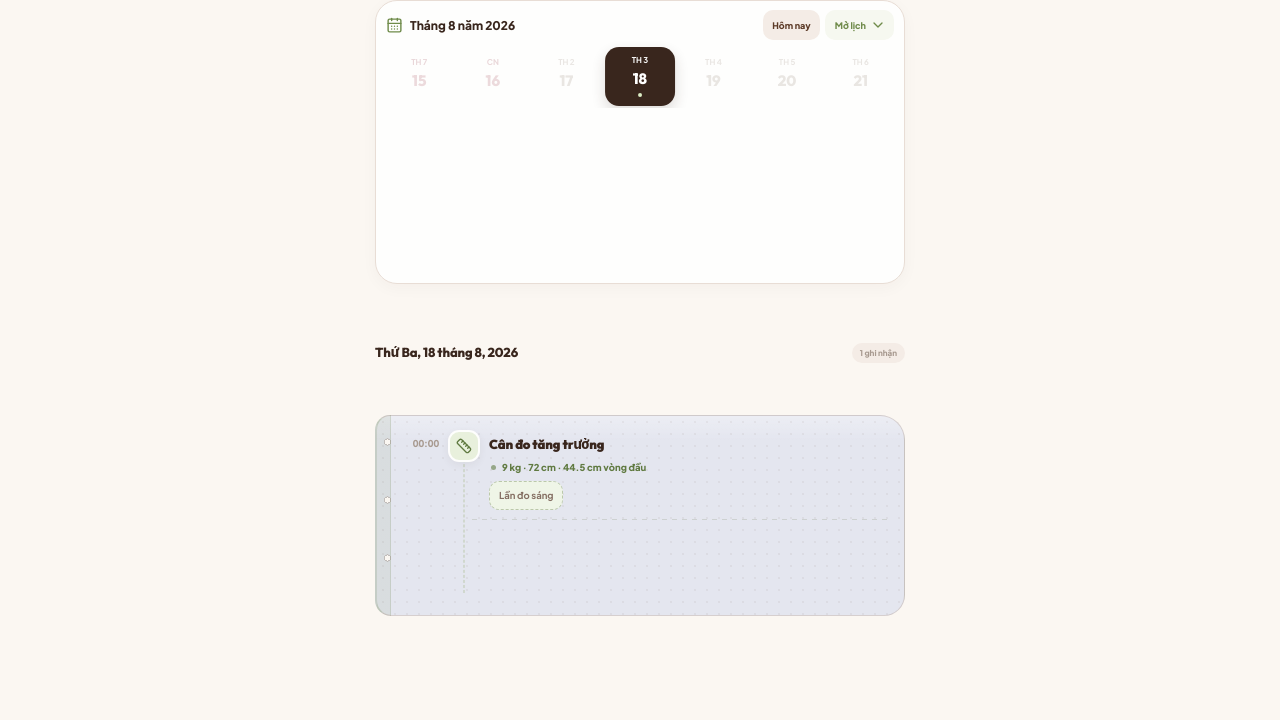
Test: TimelineView › edits a growth timeline item and keeps growth data in sync
The width and height of the screenshot is (1280, 720).
Click the button "Cân đo tăng trưởng": click(547, 444) x1=489 y1=437 x2=891 y2=510
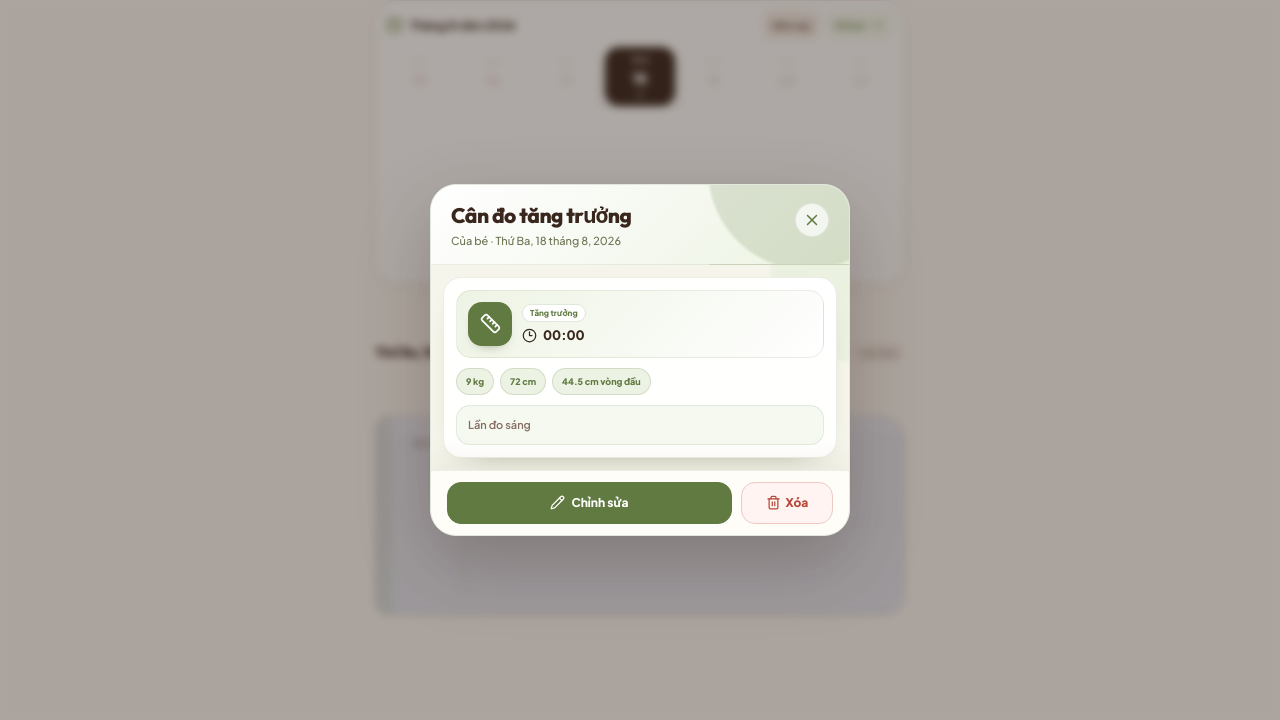
Click the button "Chỉnh sửa": click(590, 503) x1=447 y1=482 x2=732 y2=524
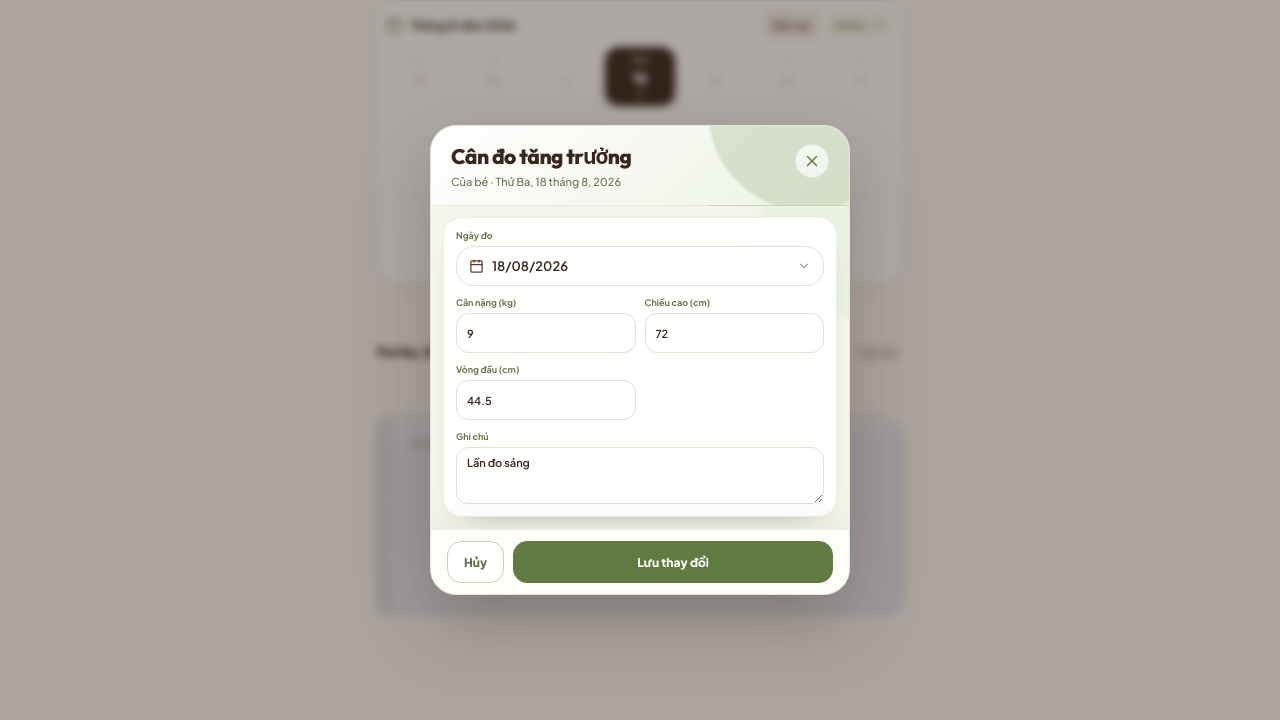
Replace the text in the number field labelled "Cân nặng (kg)" with "9.4": (546, 333) x1=456 y1=313 x2=636 y2=353
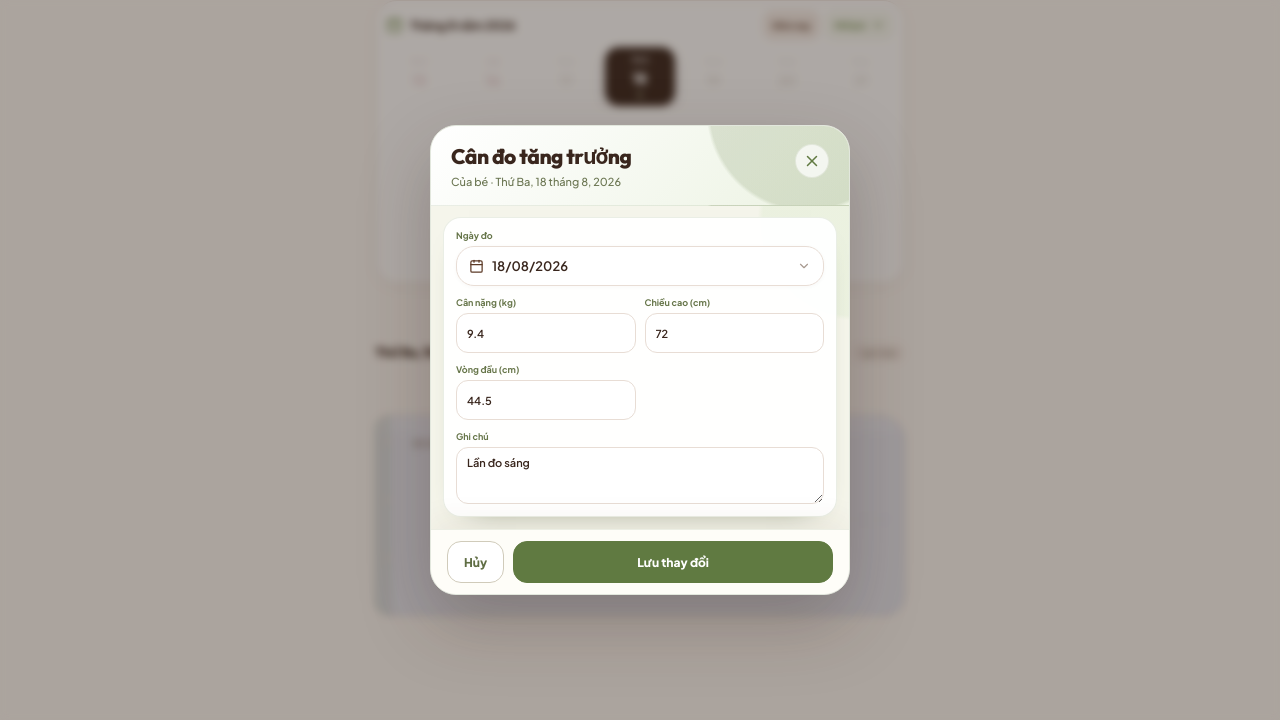
Replace the text in the text box labelled "Ghi chú" with "Đã cập nhật số đo": (640, 476) x1=456 y1=447 x2=824 y2=504
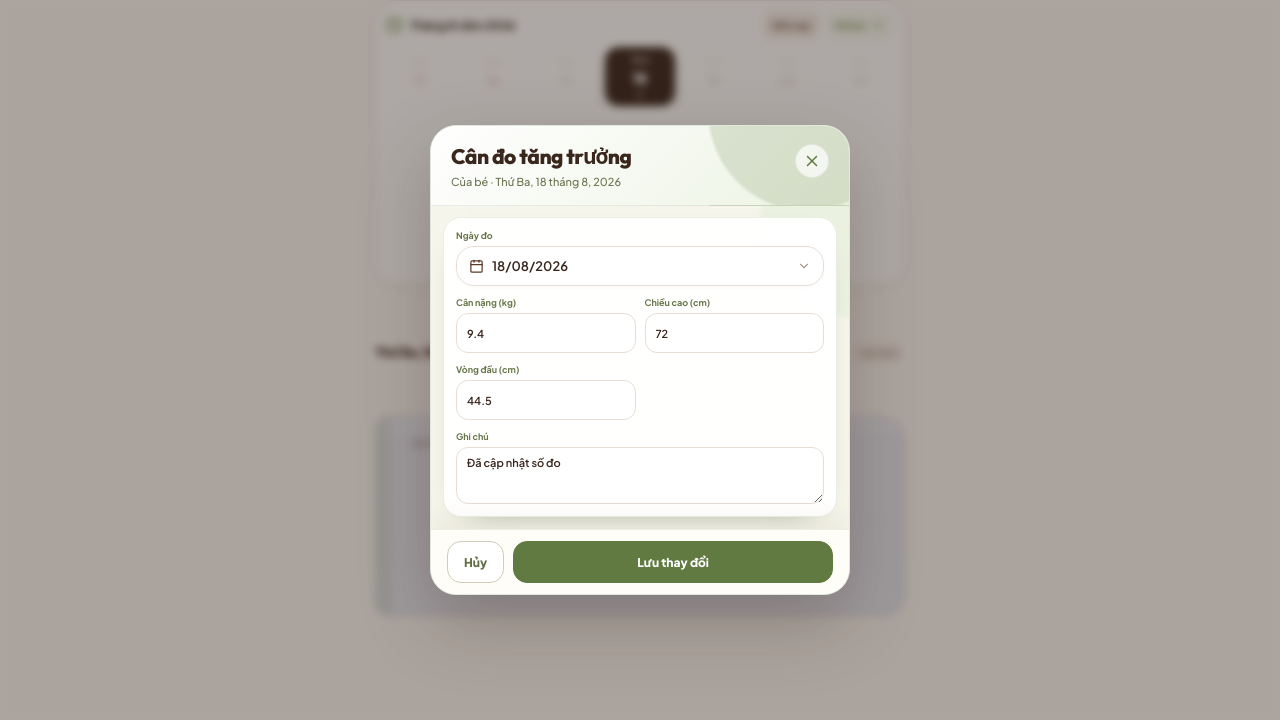
Click the button "Lưu thay đổi": click(673, 562) x1=513 y1=541 x2=833 y2=583
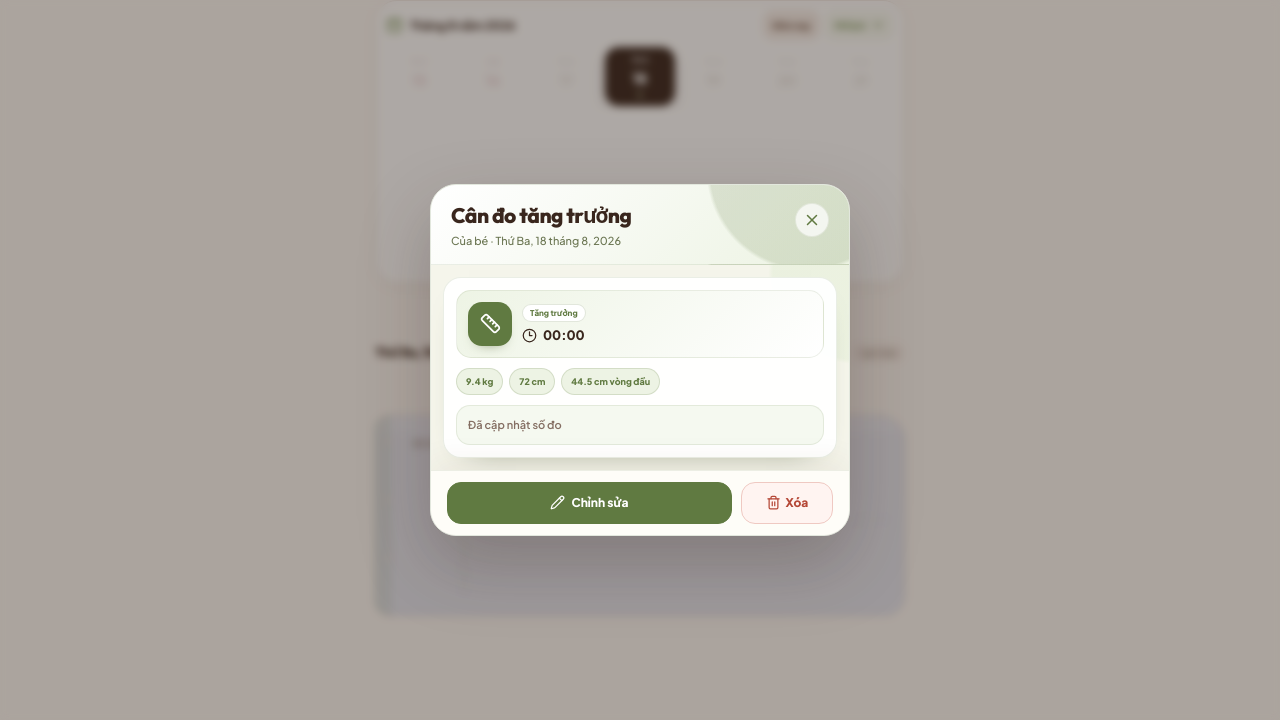
Expected: the text "9.4 kg" is shown, x1=456 y1=368 x2=503 y2=395
